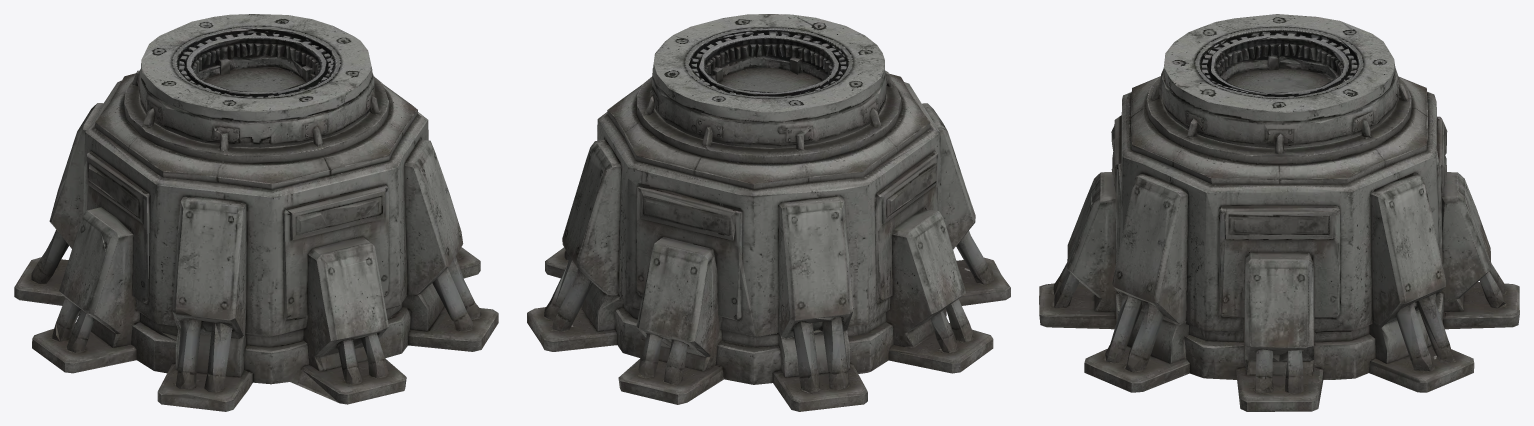
File: struct.ranged_defense.base.glb
The picture shows the model from 3 angles, left to right: view 1: azimuth 30°, elevation 25°; view 2: azimuth 150°, elevation 25°; view 3: azimuth 270°, elevation 25°; orthographic projection.
Visible parts, largest first — view 1: body; view 2: body; view 3: body.
Boxes of the visible parts, <box> form: body: <box>14,14,498,411</box>; body: <box>527,14,1010,411</box>; body: <box>1039,14,1519,411</box>.
Bounding box in the file's own units: 1.3 × 0.744 × 1.3.
1 material, 1 textured.
